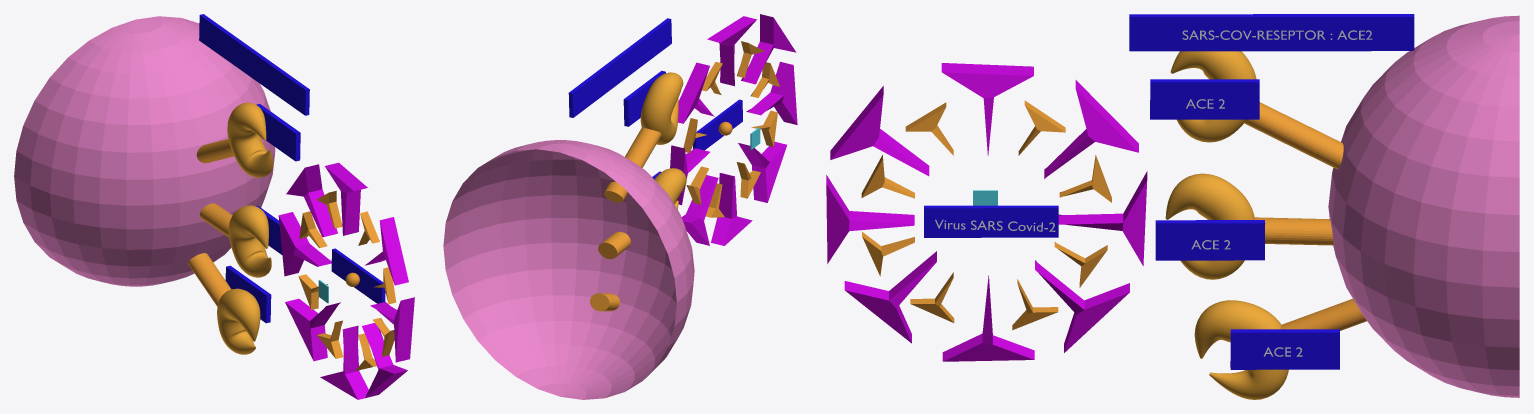
3 views of the same model, side by side, from view 1: azimuth 30°, elevation 25°; view 2: azimuth 150°, elevation 25°; view 3: azimuth 270°, elevation 25° (orthographic). The views are drawn at different scales.
Parts seen in each view (by area): view 1: Sphere.001, Cube.018, NurbsPath, NurbsPath.001, NurbsPath.002, Cube.002, Cube.006, Cube.003, Cube.005, Cube.001, Cube.004, Cube.007 (+16 smaller); view 2: Sphere.001, Cube.018, NurbsPath, Cube.004, Cube.007, Cube.003, Cube.008, Cube.001, Cube.006, Cylinder, Cube.005, Cube (+13 smaller); view 3: Sphere.001, Cube.018, Cube.019, Cube.021, Cube.020, NurbsPath.002, Cube, NurbsPath.001, NurbsPath, Cylinder, Cube.008, Cube.005 (+17 smaller).
Part boxes in pixels (x1,y1,x2,y2): Sphere.001: (14, 16, 275, 286); Cube.018: (199, 14, 309, 115); NurbsPath: (227, 102, 273, 177); NurbsPath.001: (228, 205, 271, 277); NurbsPath.002: (217, 288, 260, 354); Cube.002: (278, 212, 331, 276); Cube.006: (285, 298, 340, 361); Cube.003: (320, 325, 368, 399); Cube.005: (286, 164, 337, 237); Cube.001: (325, 162, 367, 235); Cube.004: (370, 297, 414, 362); Cube.007: (362, 323, 407, 397); Sphere.001: (443, 140, 694, 399); Cube.018: (568, 18, 671, 117); NurbsPath: (640, 72, 683, 144); Cube.004: (746, 61, 797, 124); Cube.007: (738, 141, 786, 202); Cube.003: (711, 173, 752, 245); Cube.008: (741, 14, 796, 84); Cube.001: (707, 16, 756, 86); Cube.006: (681, 175, 718, 245); Cylinder: (604, 127, 661, 202); Cube.005: (678, 62, 714, 123); Cube: (693, 99, 742, 150); Sphere.001: (1328, 15, 1519, 397); Cube.018: (1129, 14, 1414, 51); Cube.019: (1150, 79, 1259, 119); Cube.021: (1230, 329, 1339, 369); Cube.020: (1155, 220, 1265, 260); NurbsPath.002: (1194, 300, 1288, 399); Cube: (924, 205, 1058, 237); NurbsPath.001: (1165, 173, 1254, 279); NurbsPath: (1170, 51, 1256, 142); Cylinder: (1243, 102, 1343, 169); Cube.008: (830, 86, 929, 176); Cube.005: (1044, 80, 1138, 178).
Size of the model in its own units: 25.5 by 29.22 by 46.21.
